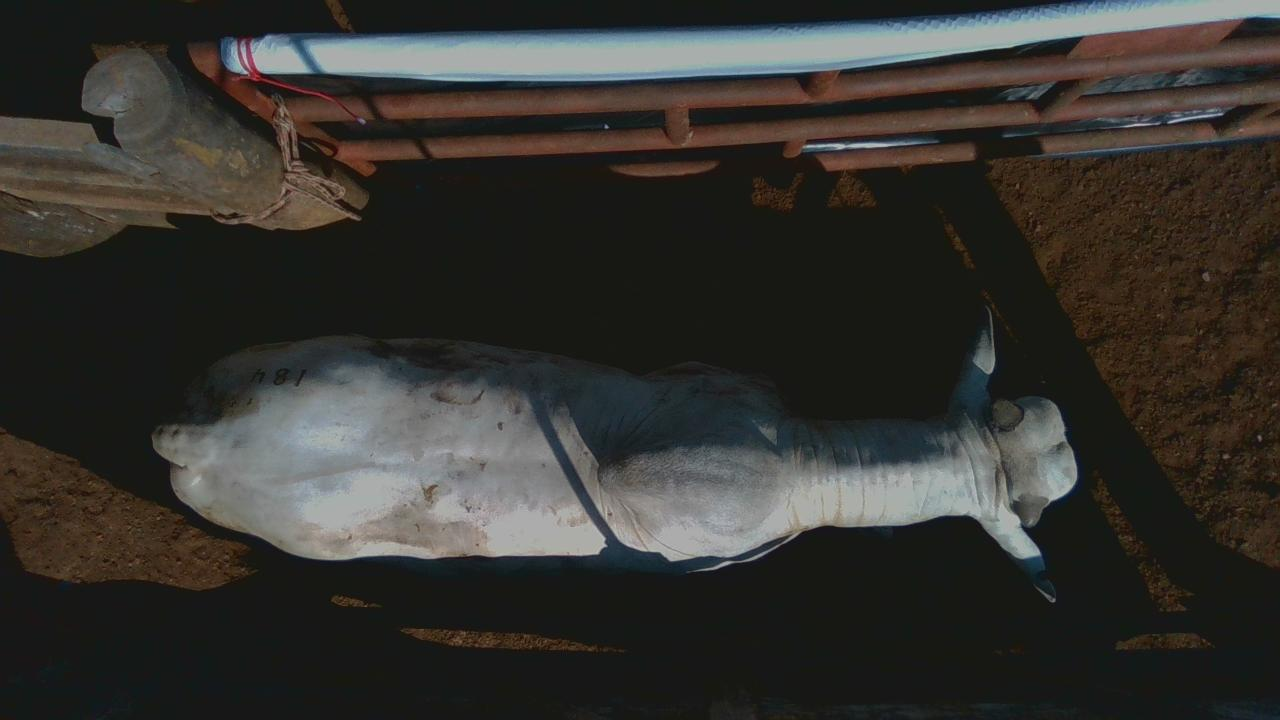cattle: (150, 303, 1079, 603)
